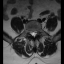CCS_normal: (32, 29, 34, 39)
LFS_normal: (36, 28, 38, 35)
LLS_normal: (34, 29, 36, 37)
RFS_normal: (28, 28, 30, 36)
RLS_normal: (30, 29, 32, 37)
